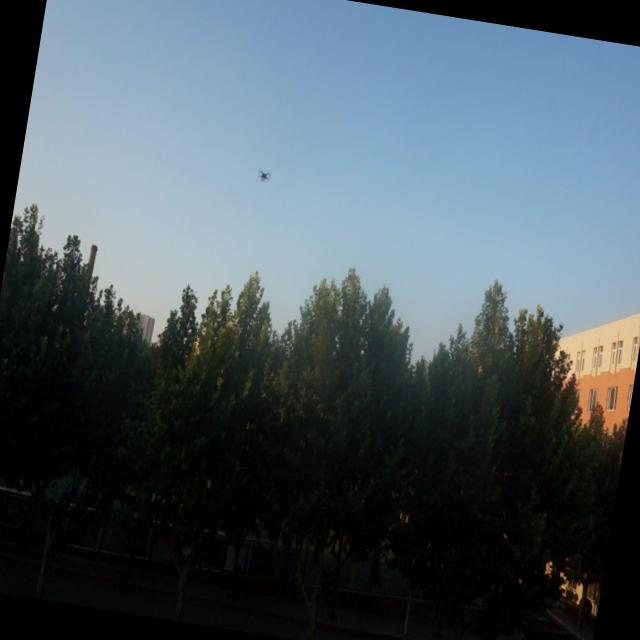drone: (256, 165, 274, 188)
